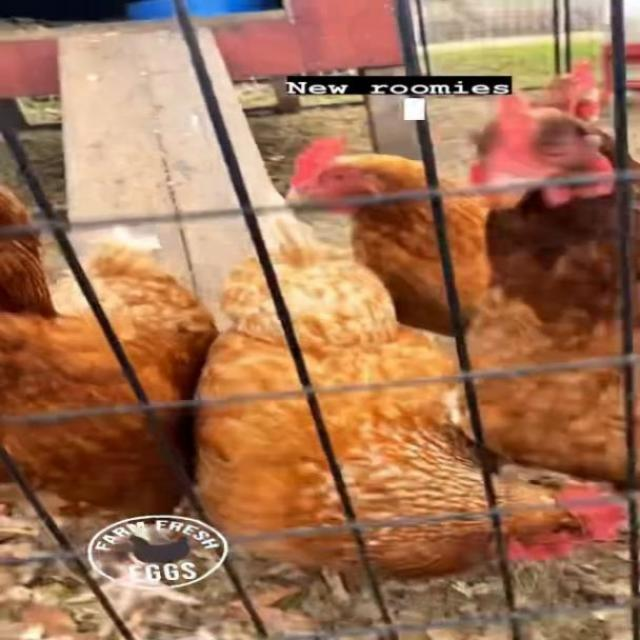Chicken: (190, 209, 628, 603), (0, 228, 219, 640), (465, 87, 640, 368), (273, 136, 493, 336), (0, 178, 57, 486), (549, 58, 607, 124)
